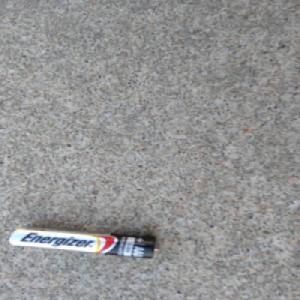Battery: (7, 226, 160, 259)
